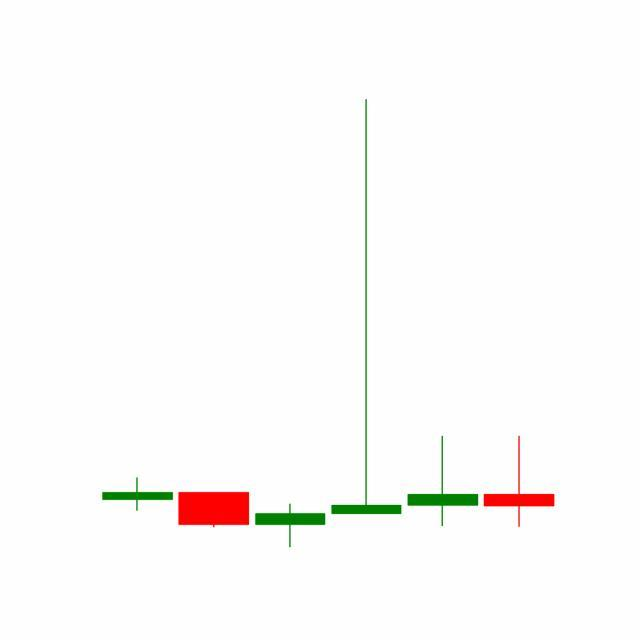Spinning Top: (404, 436, 482, 529)
